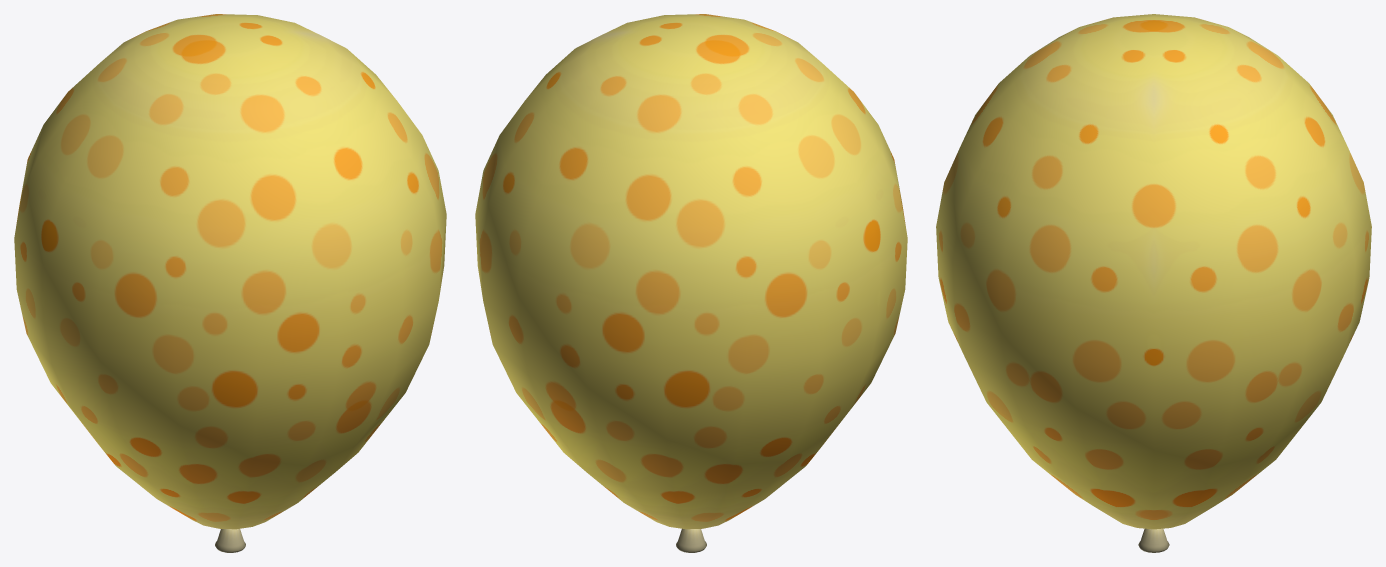
File: PartyBalloons03_5.FBX
3 views of the same model, side by side, from view 1: azimuth 30°, elevation 25°; view 2: azimuth 150°, elevation 25°; view 3: azimuth 270°, elevation 25° (orthographic).
Visible parts, largest first — view 1: PartyBalloons03_5; view 2: PartyBalloons03_5; view 3: PartyBalloons03_5.
Part boxes in pixels (bbox=[...]): PartyBalloons03_5: bbox=[14, 14, 446, 552]; PartyBalloons03_5: bbox=[475, 14, 907, 552]; PartyBalloons03_5: bbox=[936, 14, 1371, 552].
Size of what is drawn, in the model's own units: 0.3546 by 0.4578 by 0.3546.
